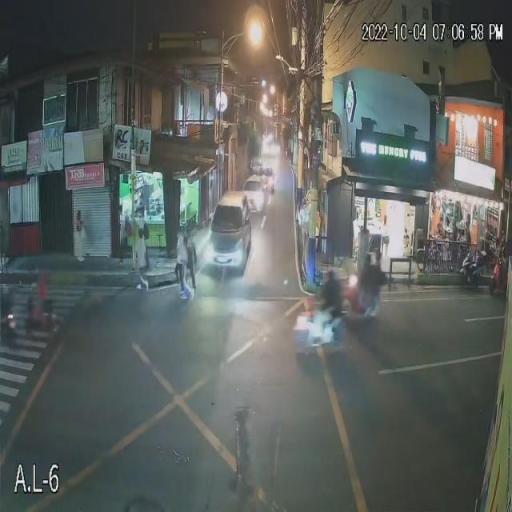helmet: (321, 264, 338, 284), (373, 240, 387, 262), (360, 252, 375, 270)
motorcycle: (286, 310, 346, 354), (345, 282, 385, 315)
rider: (314, 267, 338, 330), (370, 241, 390, 287), (354, 252, 374, 296)
